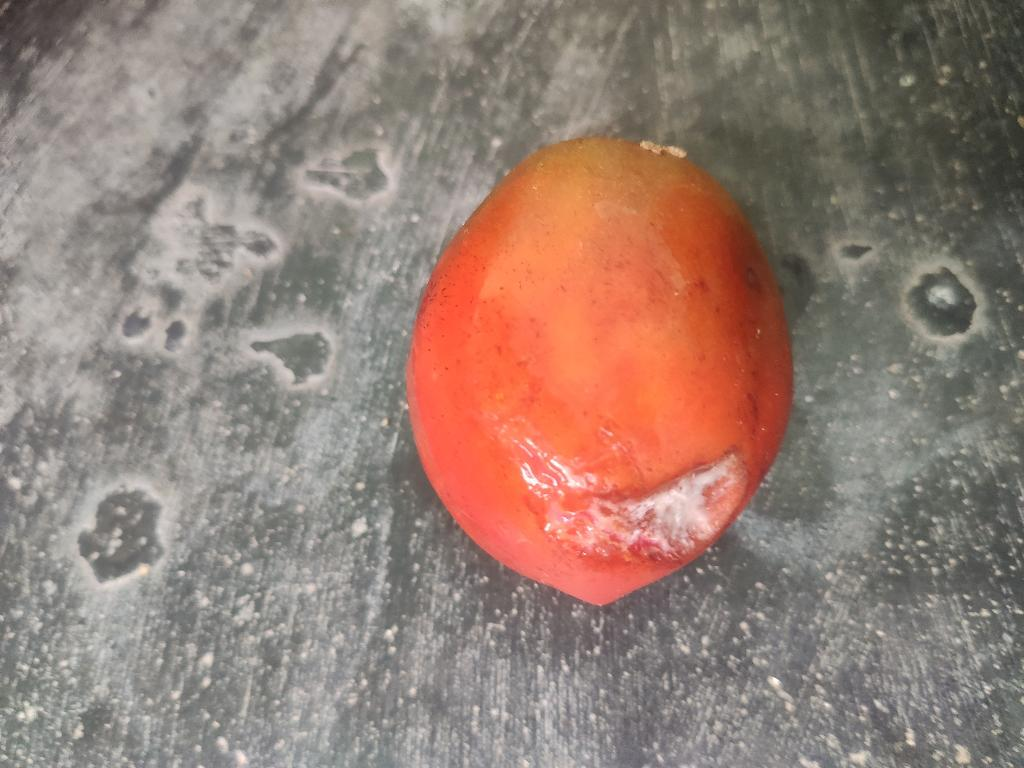rot_mold_decay: (546, 451, 746, 558)
surface_damage: (546, 451, 750, 558)
tomato: (407, 138, 792, 603)
